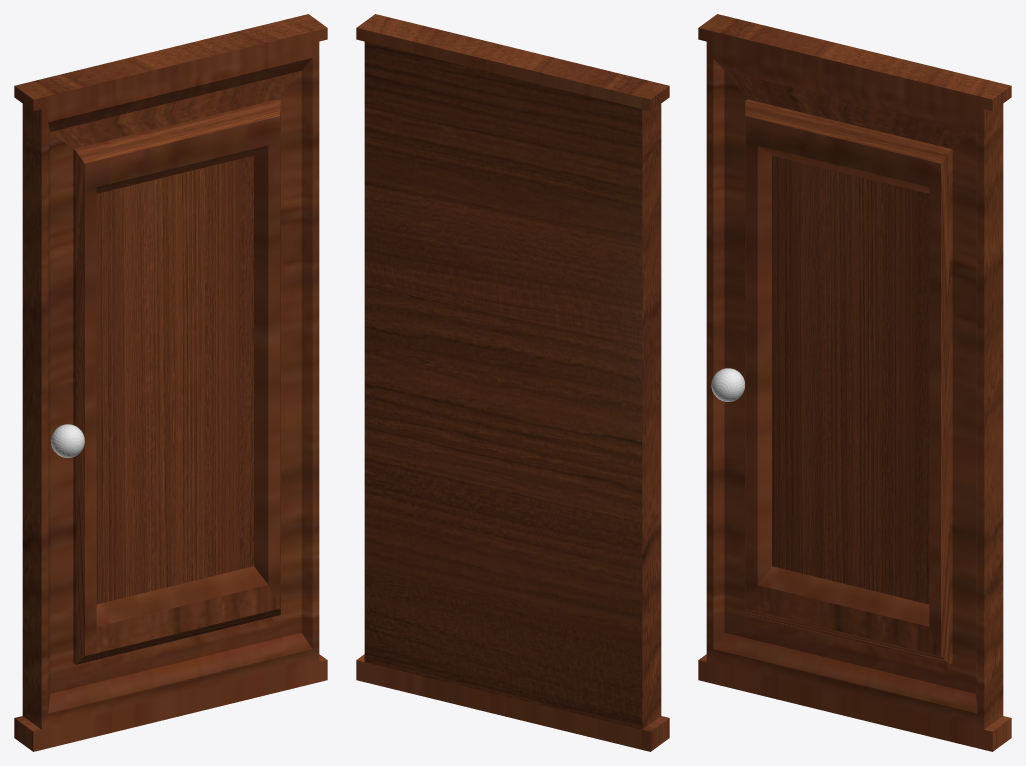
Rendered from WoodDoor.fbx.
3 views of the same model, side by side, from view 1: azimuth 30°, elevation 25°; view 2: azimuth 150°, elevation 25°; view 3: azimuth 330°, elevation 25° (orthographic).
Visible parts, largest first — view 1: Cube, Sphere; view 2: Cube; view 3: Cube, Sphere.
Part boxes in pixels (left/top/right/bottom): Cube: left=14, top=14, right=327, bottom=751; Sphere: left=51, top=424, right=84, bottom=457; Cube: left=356, top=14, right=669, bottom=751; Cube: left=698, top=14, right=1011, bottom=751; Sphere: left=711, top=368, right=744, bottom=401.
Bounding box in the file's own units: 212 × 449 × 37.18.
